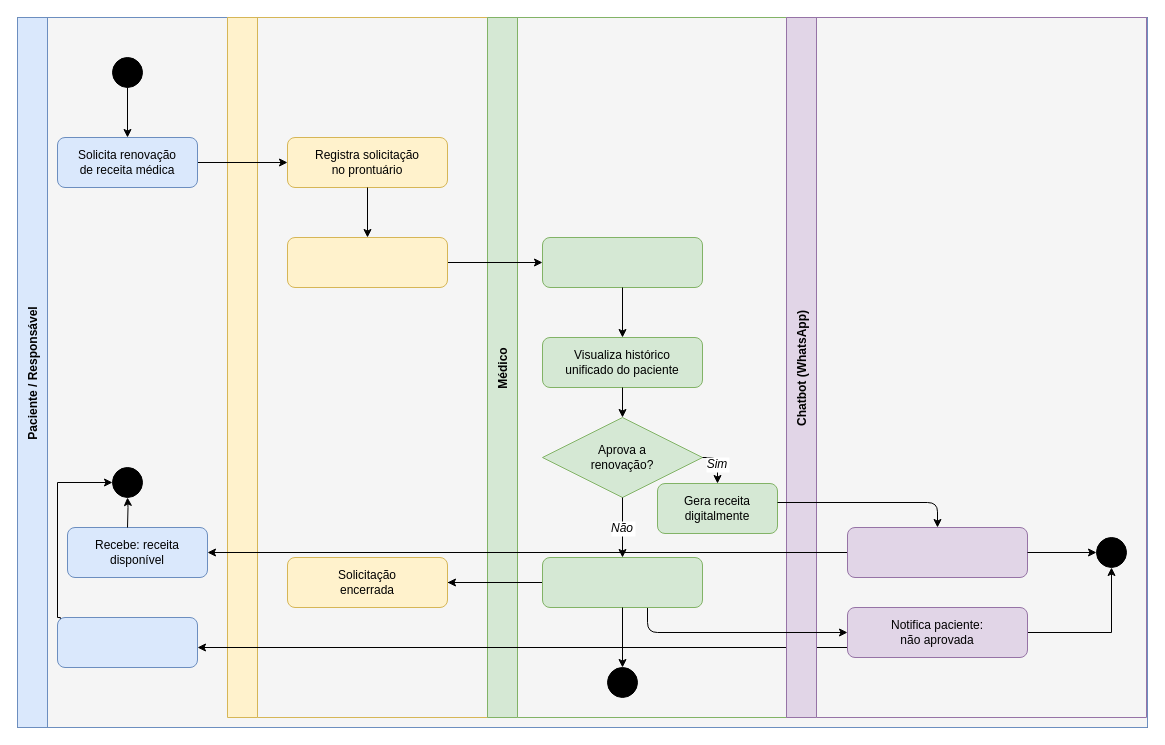
This 1165x745 diagram has some shape labels left out. Each missing label, with the box of its shape:
Notifica médico responsável: (286, 236, 448, 288)
Notifica paciente: receita disponível: (846, 526, 1028, 578)
Recebe notificação de solicitação: (542, 236, 702, 288)
Recebe: solicitação não aprovada: (56, 616, 198, 668)
Registra motivo da recusa: (542, 556, 702, 608)
Sistema GISA: (226, 16, 488, 718)
